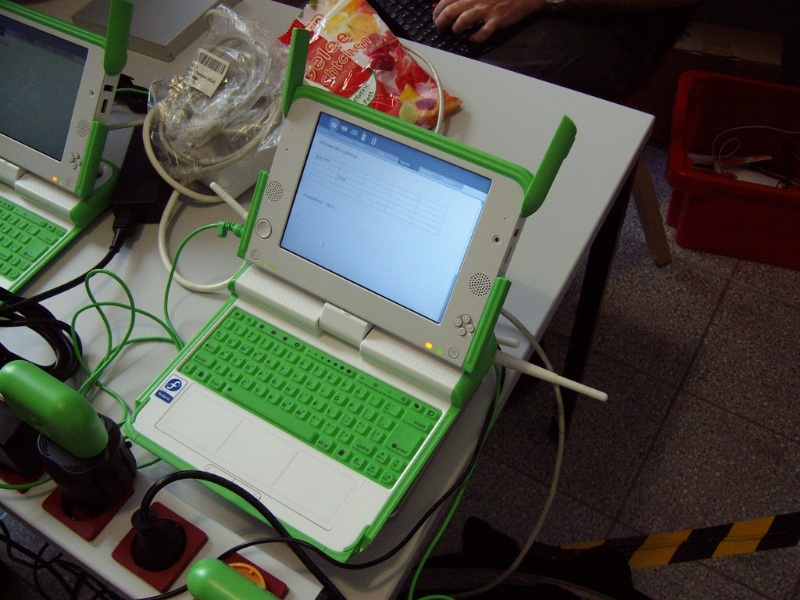laptop: (112, 90, 573, 558)
